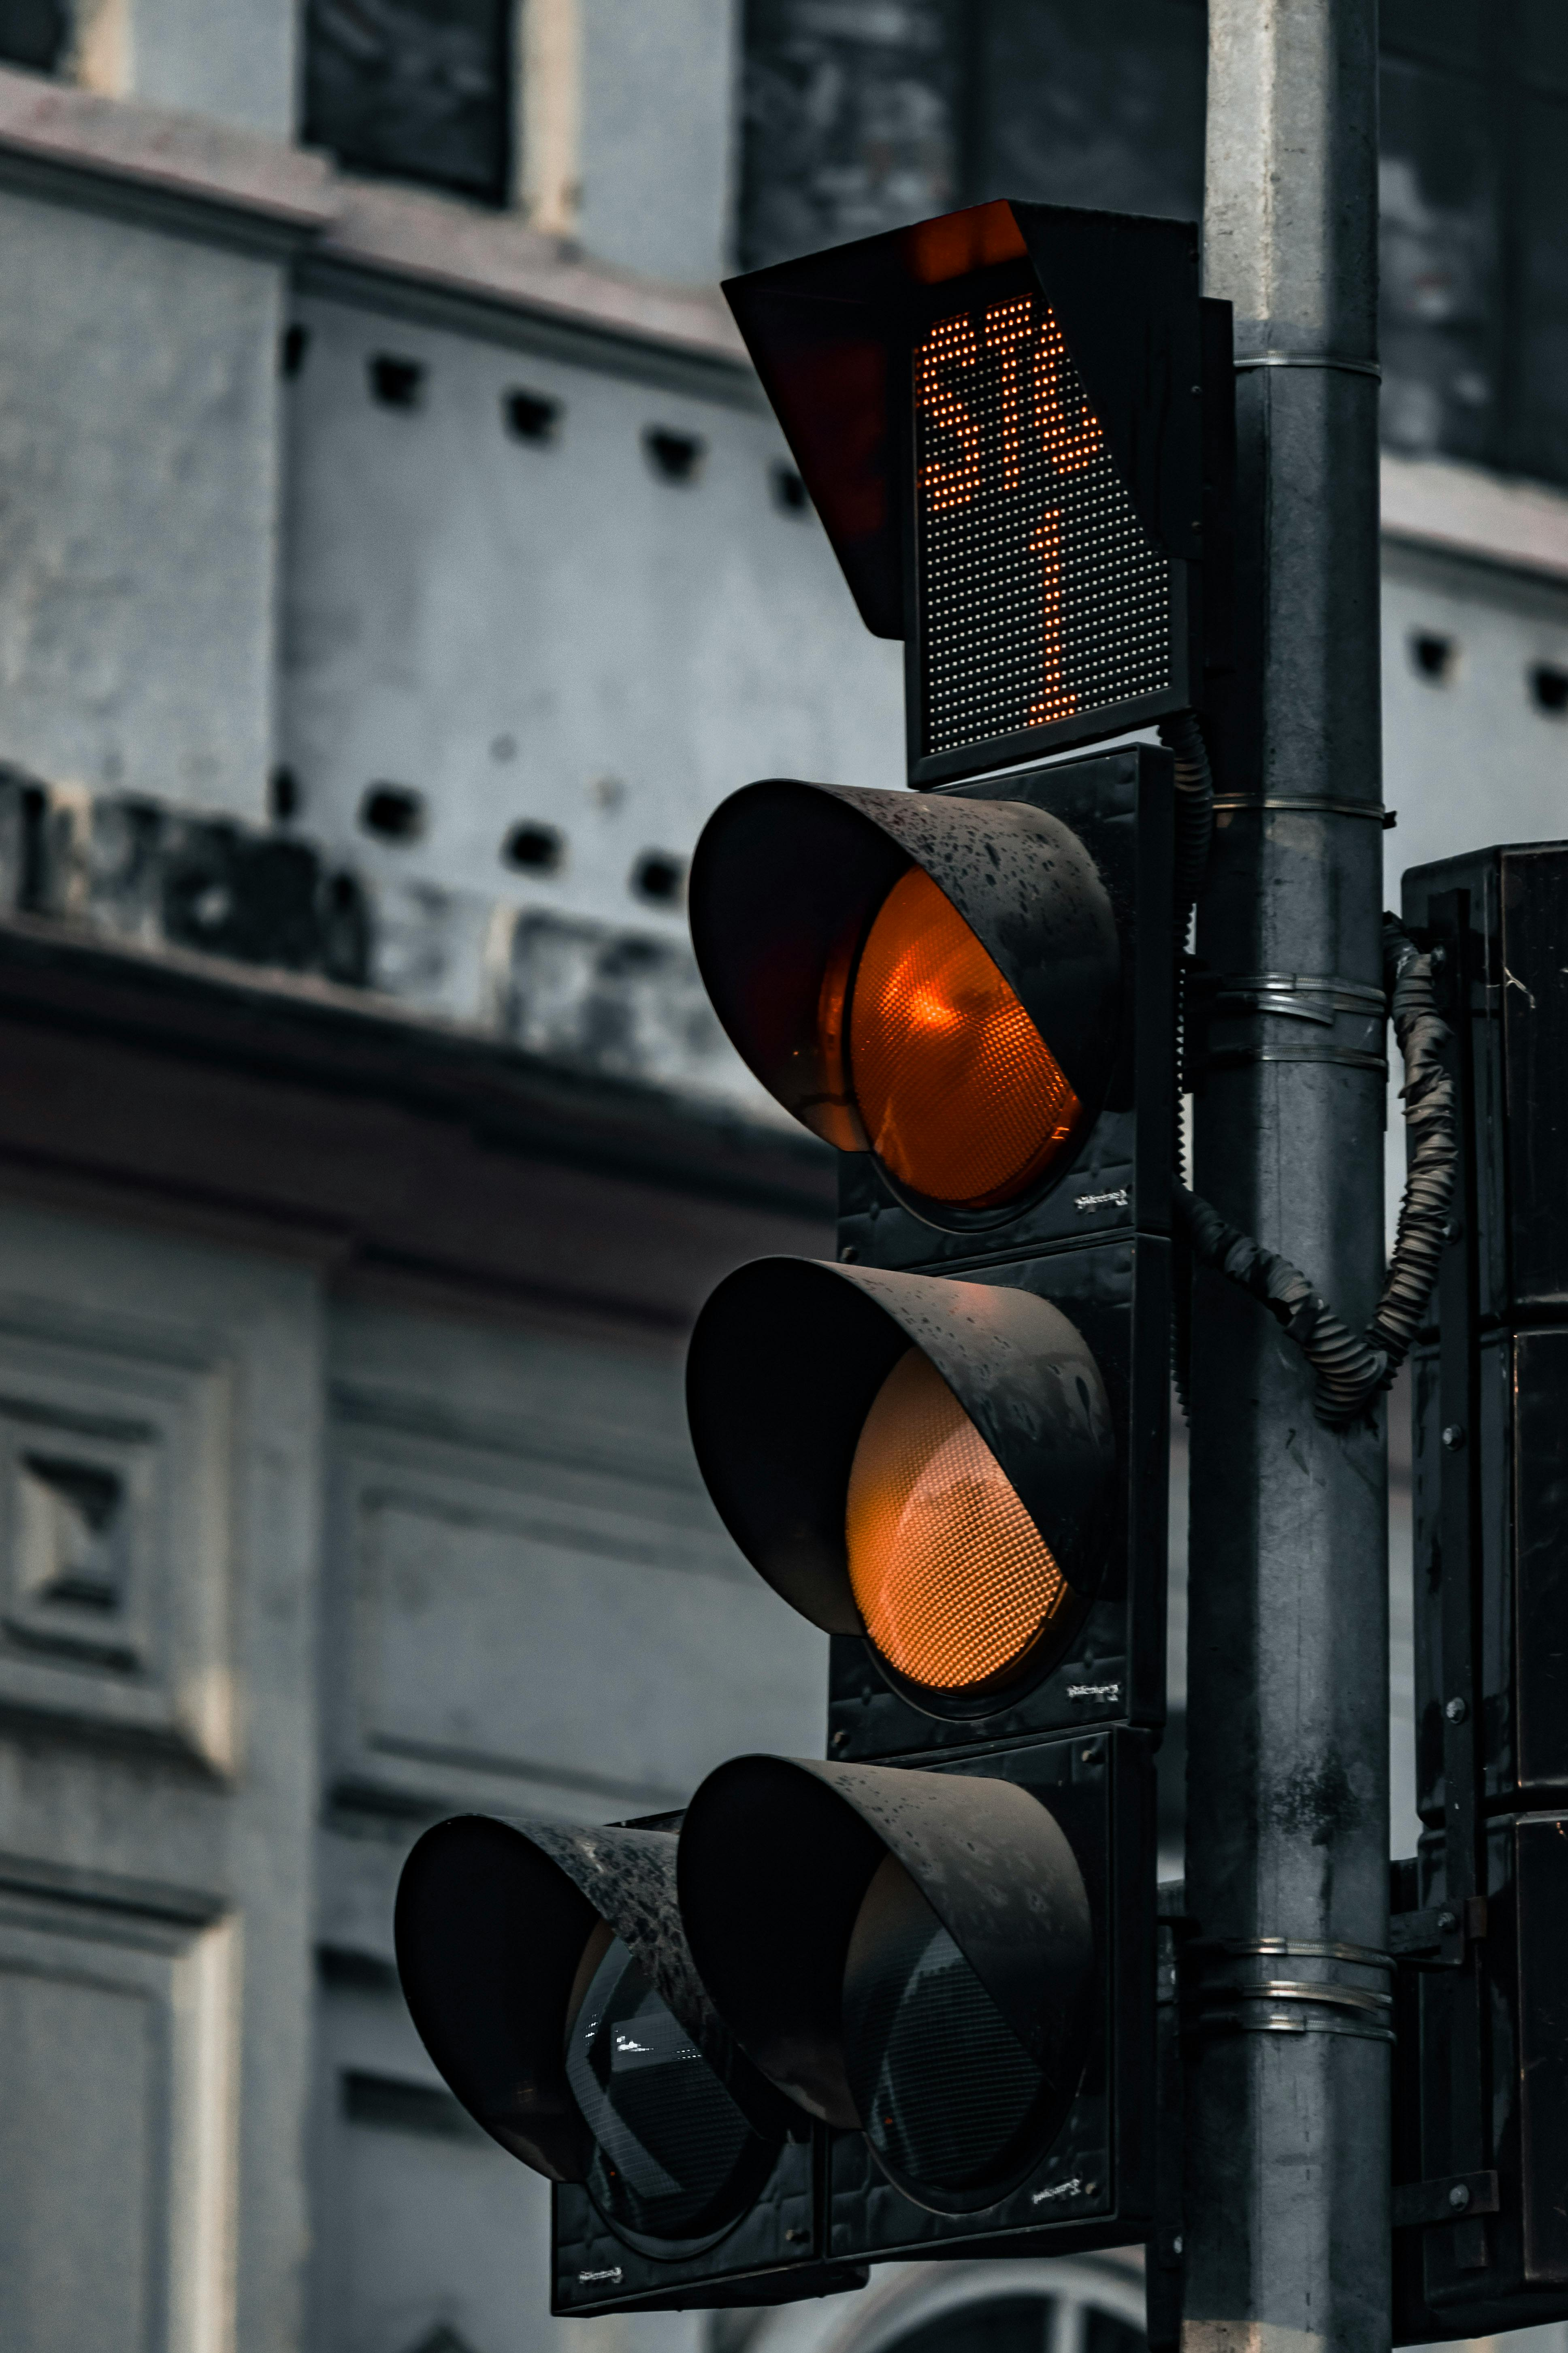trfl: (682, 278, 1227, 1755)
